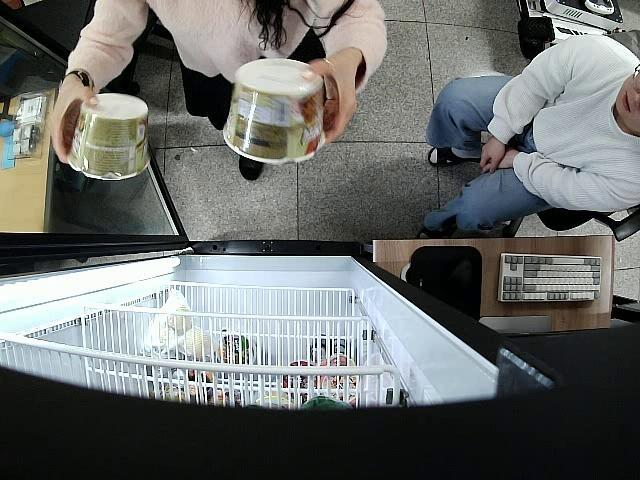03_chapagetti_L: (221, 59, 326, 164), (68, 92, 150, 181)
